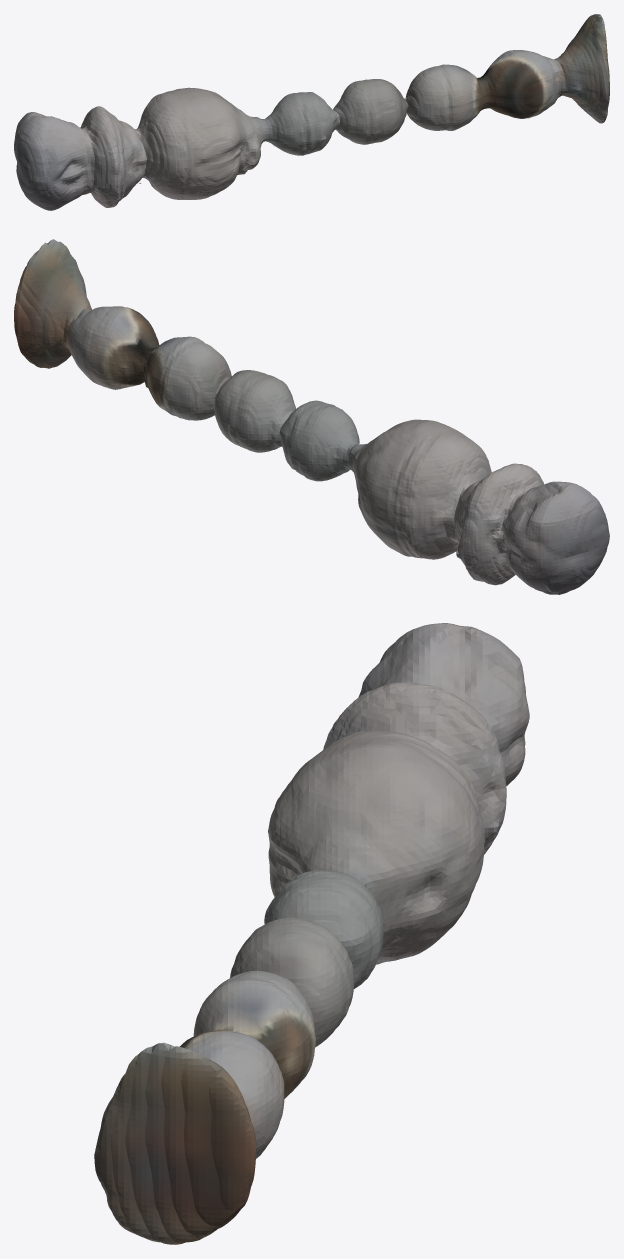
3 views of the same model, one above another, from view 1: azimuth 30°, elevation 25°; view 2: azimuth 150°, elevation 25°; view 3: azimuth 270°, elevation 25° (orthographic). The views are drawn at different scales.
Visible parts, largest first — view 1: geometry_0; view 2: geometry_0; view 3: geometry_0.
Part boxes in pixels (x1,y1,x2,y2): geometry_0: [14, 14, 609, 210]; geometry_0: [14, 239, 609, 594]; geometry_0: [94, 623, 529, 1244].
Size of the model in its own units: 0.9517 by 0.2263 by 0.3419.
